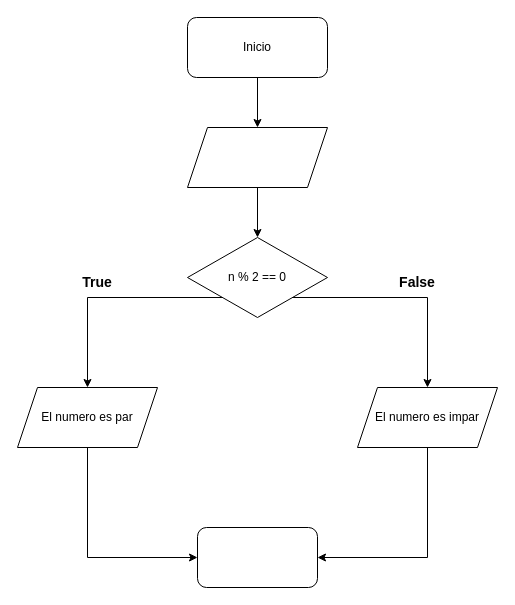
Image size: 515x605. Some labels were removed from this diagram. The centre of each missing label's shape, as x and y in pixels:
"Fin" goes at (x=257, y=557).
"Inserte un valor" goes at (x=257, y=157).
